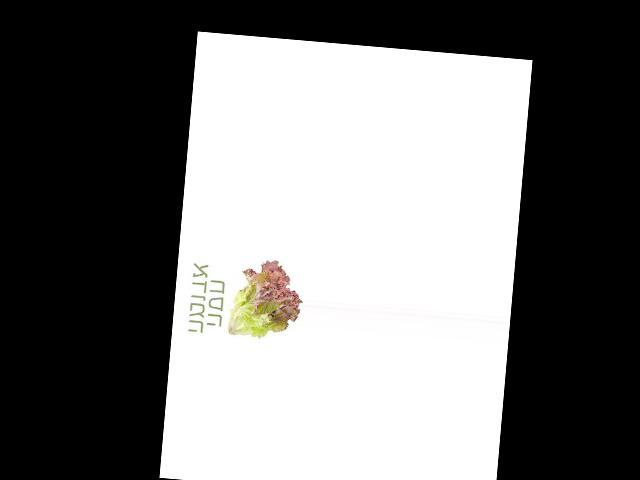lettuce: (172, 260, 298, 365)
